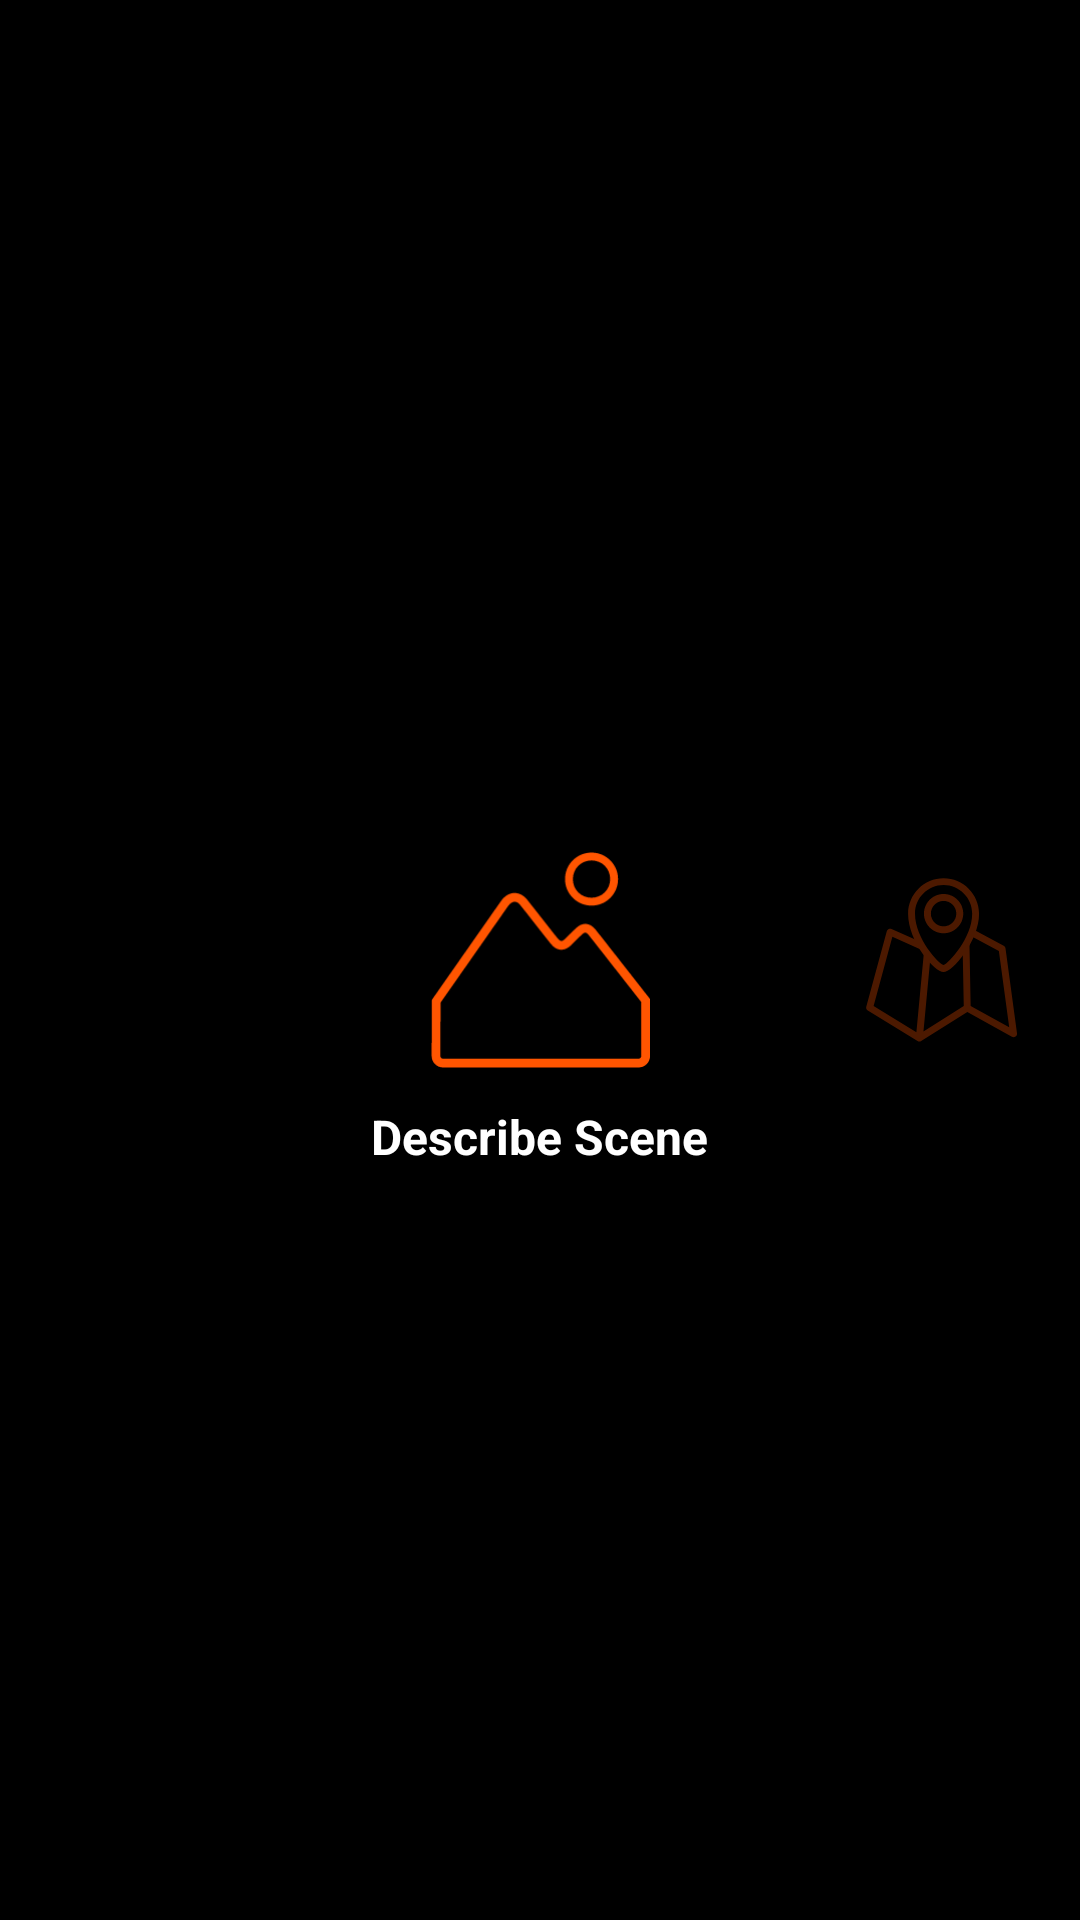

Icon click points for this 1080x1920 phone screenshot, format (x,y):
navigate: (941,960)
